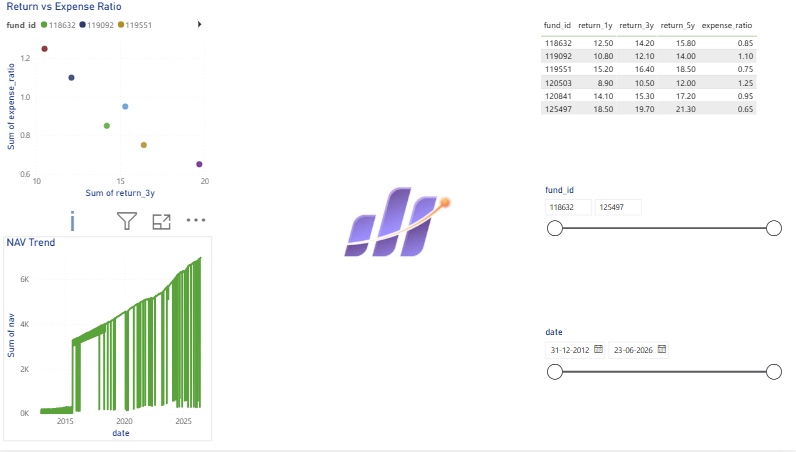

The page's visual inventory and layout, read from the dashboard file:
{"tool":"powerbi","page":{"name":"Fund Performance","canvas":[1280,720],"ordinal":1},"visuals":[{"type":"scatterChart","title":"Return vs Expense Ratio","fields":{"X":["Sum(scheme_performance_clean.return_3y)"],"Y":["Sum(scheme_performance_clean.expense_ratio)"],"Series":["scheme_performance_clean.fund_id"]},"box":[10,0,334,322],"z":0},{"type":"lineChart","title":"NAV Trend","fields":{"Category":["nav_history_clean.date"],"Y":["Sum(nav_history_clean.nav)"]},"box":[10,378,334,328],"z":1000},{"type":"tableEx","fields":{"Values":["scheme_performance_clean.fund_id","scheme_performance_clean.return_1y","scheme_performance_clean.return_3y","scheme_performance_clean.return_5y","scheme_performance_clean.expense_ratio"]},"box":[864,24,362,220],"z":2000},{"type":"slicer","fields":{"Values":["scheme_performance_clean.fund_id"]},"box":[864,290,400,174],"z":3000},{"type":"slicer","fields":{"Values":["nav_history_clean.date"]},"box":[864,518,400,202],"z":4000}]}

Visuals, with their boxes in screenshot pixels (x1, y1, x2, y2), scaled from the page's 1280x720 canvas onto the 796x452 screenshot:
"Return vs Expense Ratio" scatterChart: bbox(6, 0, 214, 202)
"NAV Trend" lineChart: bbox(6, 237, 214, 443)
tableEx - scheme_performance_clean.fund_id x scheme_performance_clean.return_1y: bbox(537, 15, 762, 153)
slicer - scheme_performance_clean.fund_id: bbox(537, 182, 786, 291)
slicer - nav_history_clean.date: bbox(537, 325, 786, 451)
